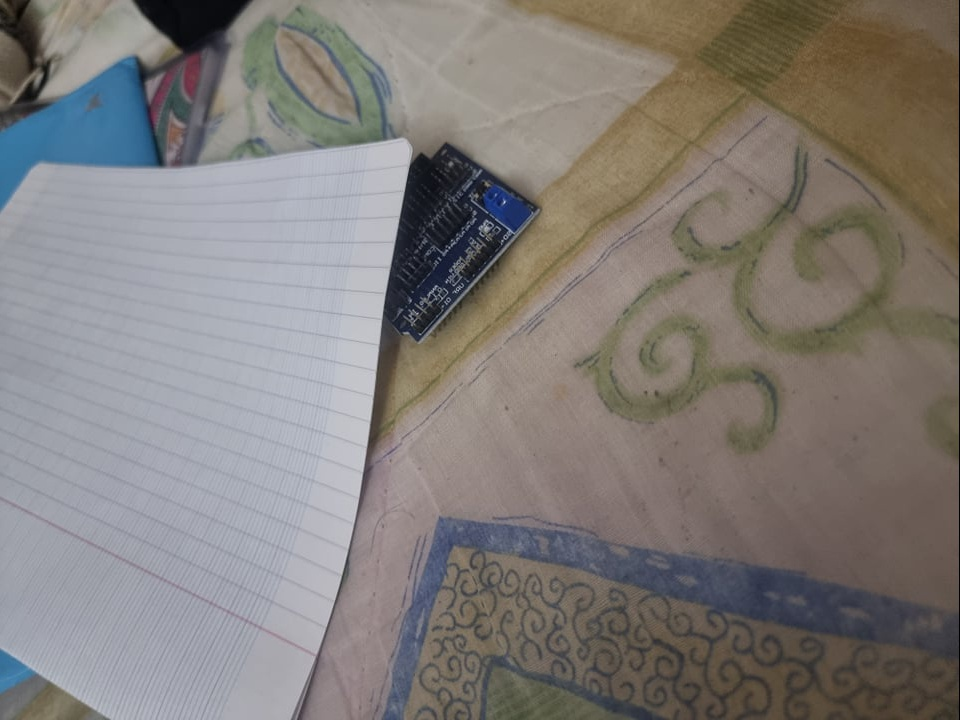5V EXPANSION: (381, 143, 543, 342)
